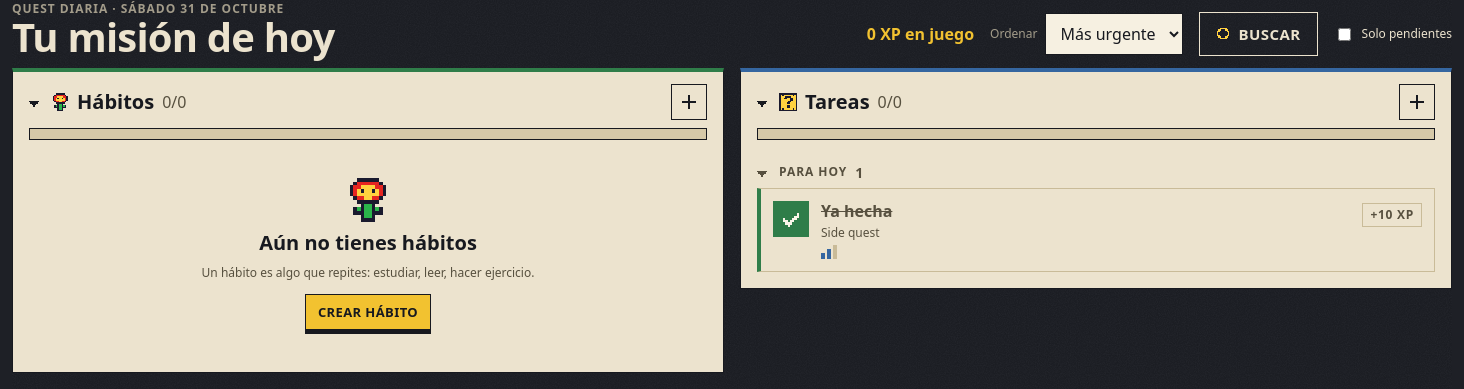
Test: tablero de Hoy › con solo pendientes, lo hecho se oculta y la columna lo celebra
Check: the text "Ya hecha" is shown, box [821, 201, 892, 222]
Click the checkbox labelled "Solo pendientes". click: (1344, 34)
box: [1338, 28, 1351, 40]
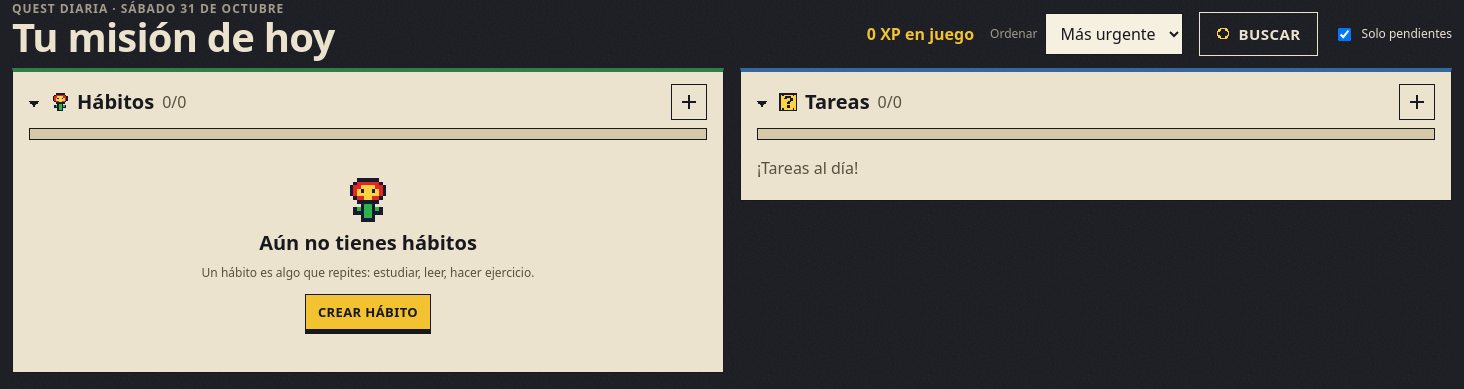
Check: the button "Ya hecha" is gone
Check: the text "¡Tareas al día!" is shown, box [757, 157, 858, 179]
